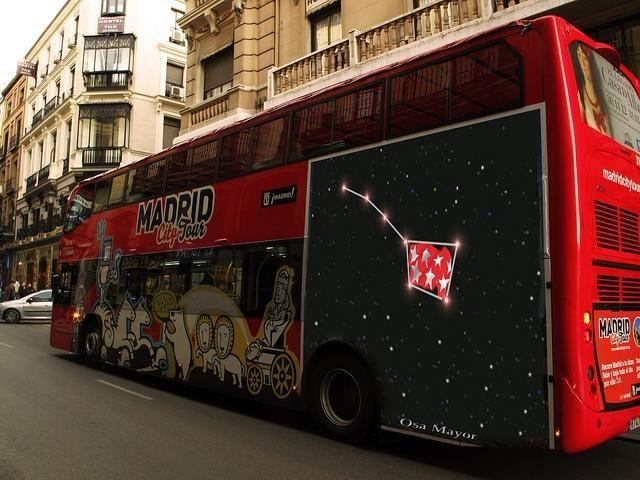bus: (50, 14, 634, 466)
car: (1, 289, 51, 324)
